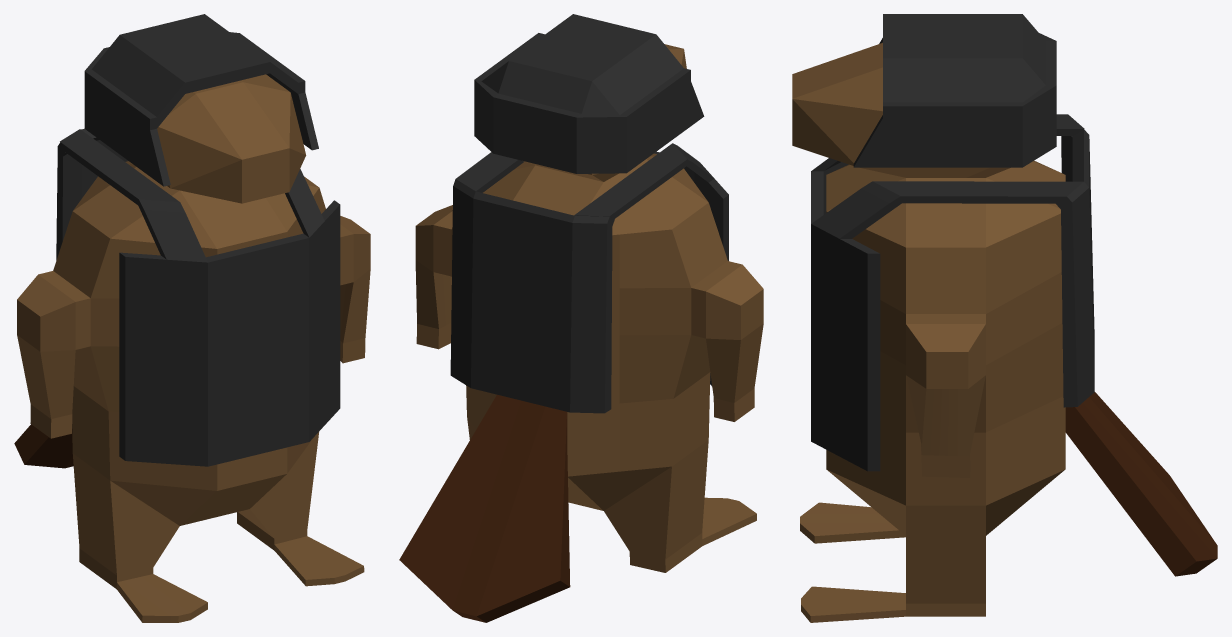
The model's file is boss_beaver.fbx.
3 renders of one model, left to right at view 1: azimuth 30°, elevation 25°; view 2: azimuth 150°, elevation 25°; view 3: azimuth 270°, elevation 25°, orthographic. The views are drawn at different scales.
Parts seen in each view (by area): view 1: Cube; view 2: Cube; view 3: Cube.
Part boxes in pixels (left/top/right/bottom): Cube: left=14, top=14, right=370, bottom=622; Cube: left=399, top=14, right=763, bottom=622; Cube: left=792, top=14, right=1217, bottom=622.
Size of the model in its own units: 188 by 271 by 195.
